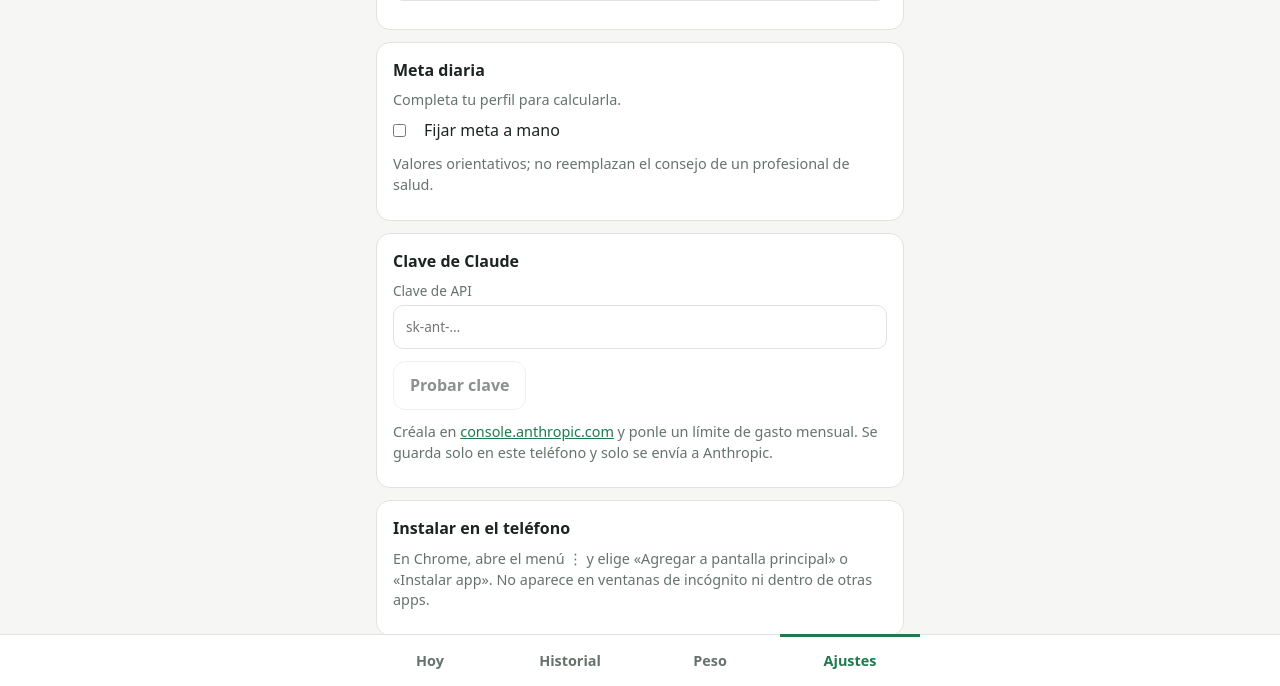
Scenario: probar clave: inválida
(page scrolled)
Type "mala" into the password field labelled "Clave de API" at coordinates (640, 326), box [393, 304, 887, 348]
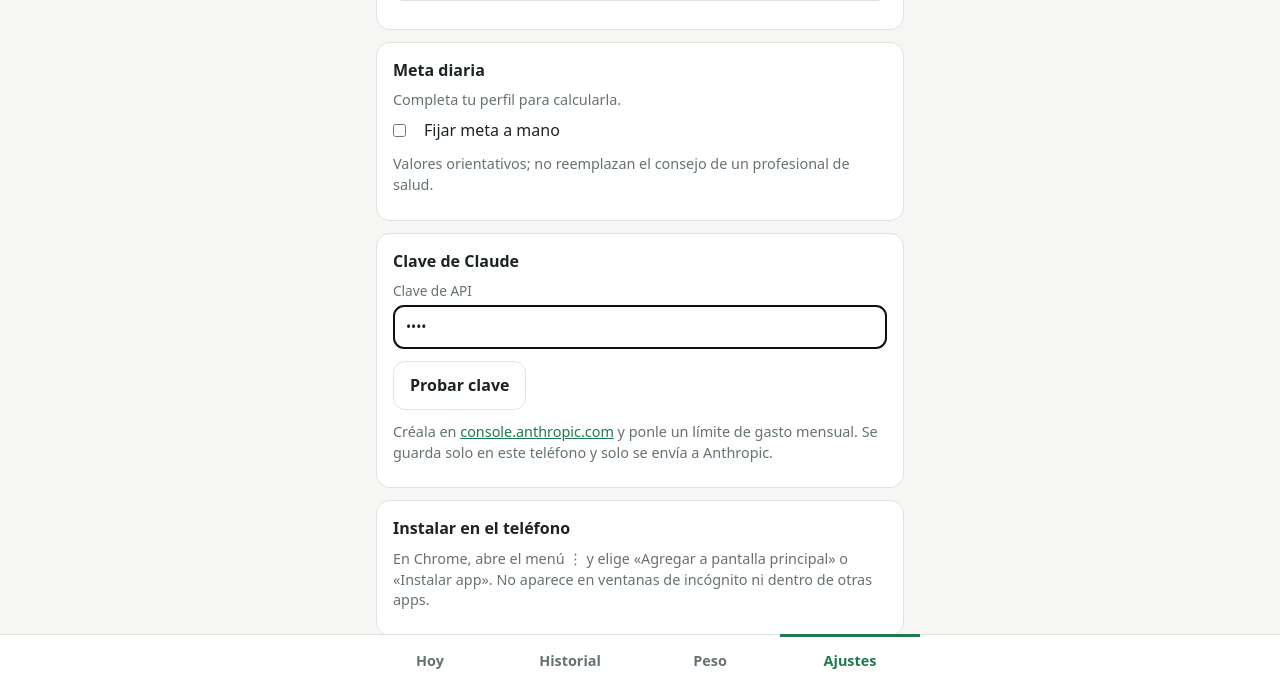
Click the button "Probar clave" at coordinates (460, 385), box [393, 360, 526, 410]
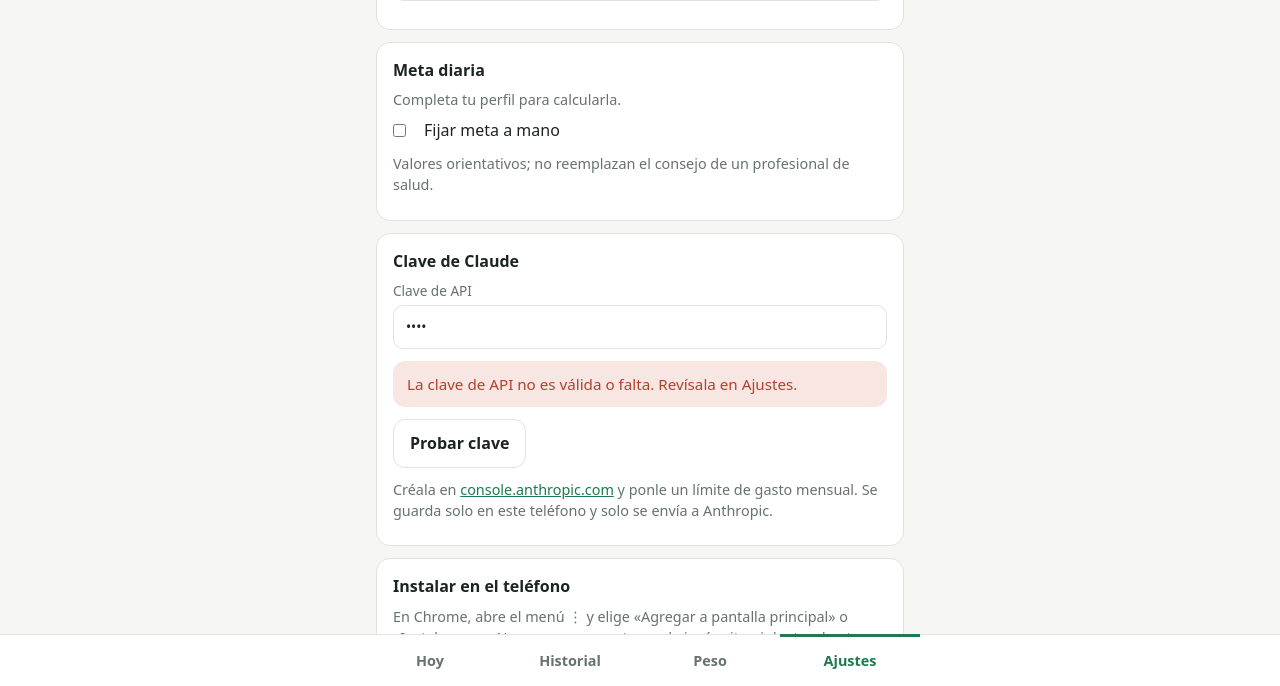
Check: the text "La clave de API no es válida o falta. Revísala en Ajustes." is shown, box [393, 360, 887, 406]
